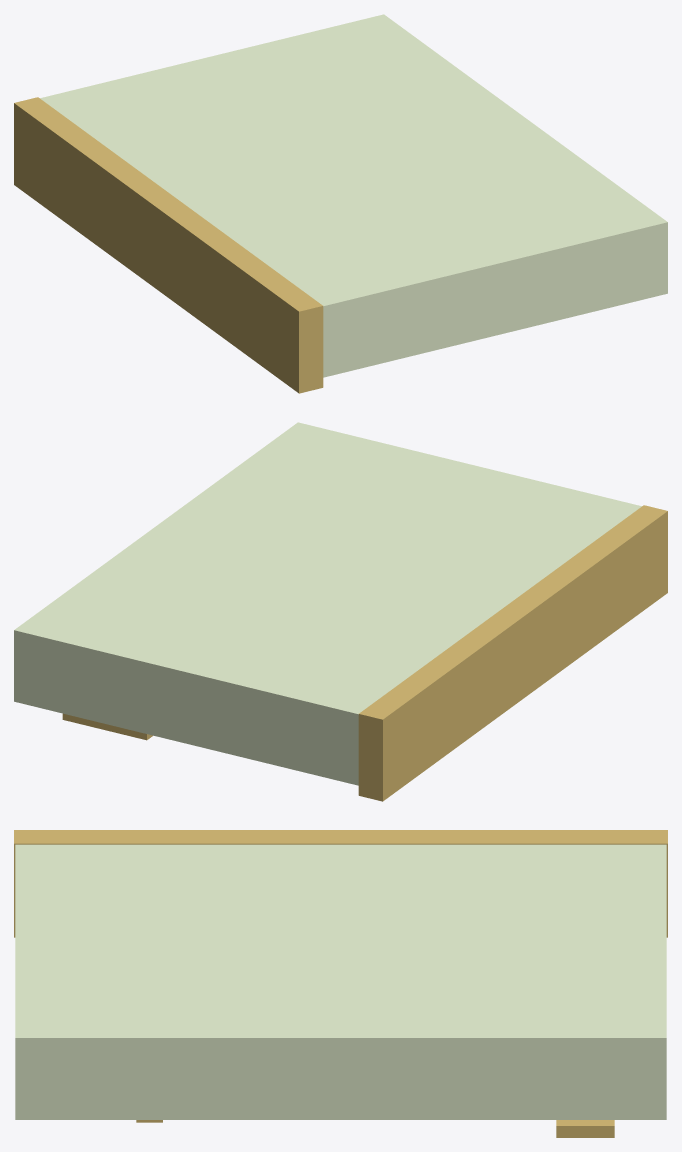
The model's file is almadoro.glb.
3 views of the same model, one above another, from view 1: azimuth 30°, elevation 25°; view 2: azimuth 150°, elevation 25°; view 3: azimuth 270°, elevation 25° (orthographic). The views are drawn at different scales.
Visible parts, largest first — view 1: Alma D'Oro carton, Alma D'Oro spine; view 2: Alma D'Oro carton, Alma D'Oro spine, Alma D'Oro edition chip; view 3: Alma D'Oro carton, Alma D'Oro spine, Alma D'Oro edition chip.
Part boxes in pixels (bbox=[...]): Alma D'Oro carton: bbox=[40, 14, 667, 377]; Alma D'Oro spine: bbox=[14, 97, 323, 393]; Alma D'Oro carton: bbox=[14, 422, 641, 785]; Alma D'Oro spine: bbox=[358, 505, 667, 801]; Alma D'Oro edition chip: bbox=[62, 713, 152, 740]; Alma D'Oro carton: bbox=[15, 844, 666, 1119]; Alma D'Oro spine: bbox=[14, 830, 667, 937]; Alma D'Oro edition chip: bbox=[556, 1120, 614, 1137].
Size of the model in its own units: 1.84 by 0.4825 by 2.46.
